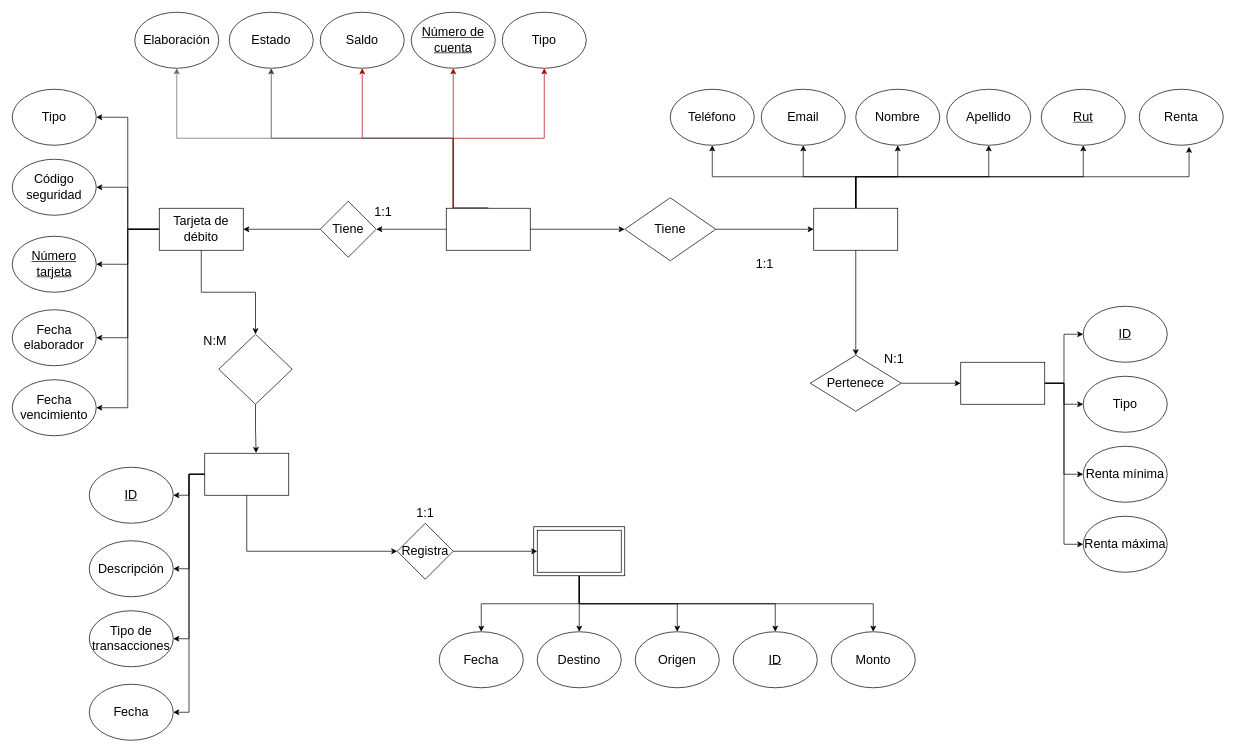
This 1236x753 diagram has some shape labels left out. The centre of each missing label's shape, as x and y in pixels:
"Canal transaccional" goes at [255,369].
"Cliente" goes at [855,229].
"Cta. corriente" goes at [488,229].
"Movimiento" goes at [579,551].
"Segmento" goes at [1002,383].
"Transacciones" goes at [246,474].
